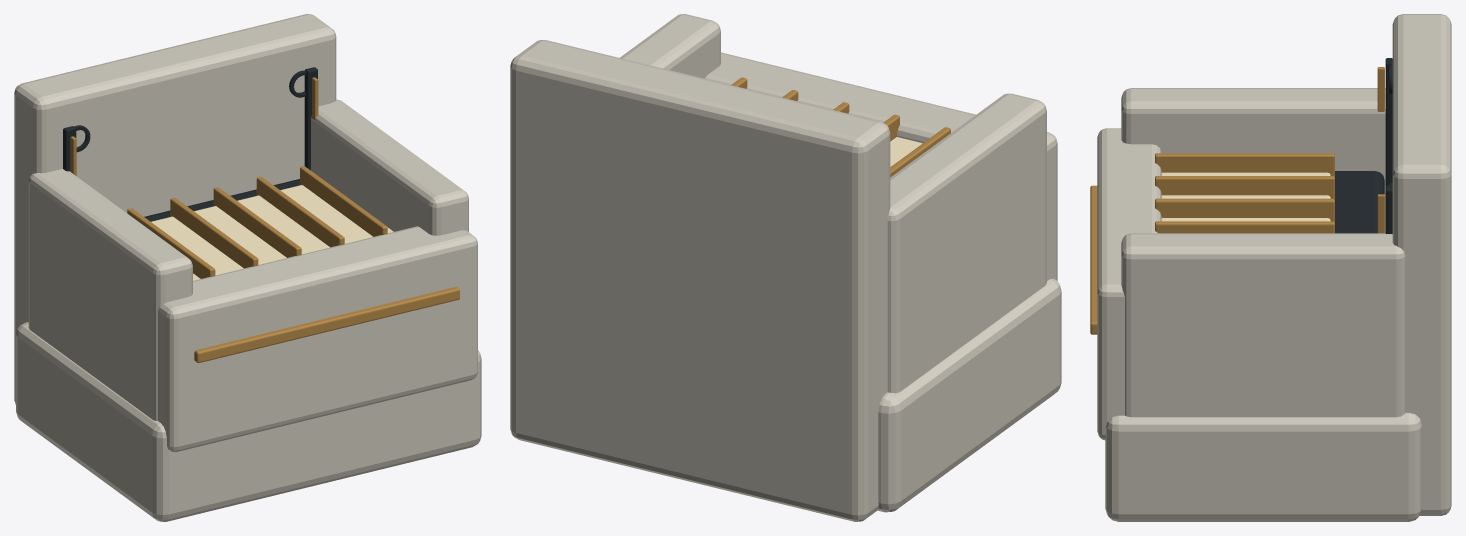
The model's file is SM_Aurelion_KIT_PierUplight.fbx.
The picture shows the model from 3 angles, left to right: view 1: azimuth 30°, elevation 25°; view 2: azimuth 150°, elevation 25°; view 3: azimuth 270°, elevation 25°; orthographic projection. The views are drawn at different scales.
Visible parts, largest first — view 1: SM_Aurelion_KIT_PierUplight; view 2: SM_Aurelion_KIT_PierUplight; view 3: SM_Aurelion_KIT_PierUplight.
Boxes of the visible parts, x1,y1,x2,y2 form: SM_Aurelion_KIT_PierUplight: (14, 14, 481, 521); SM_Aurelion_KIT_PierUplight: (510, 14, 1061, 521); SM_Aurelion_KIT_PierUplight: (1090, 14, 1451, 521).
Size of the model in its own units: 76 by 67.3 by 72.
